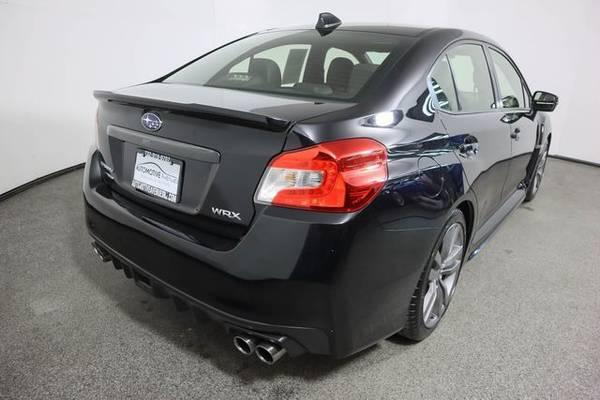Front_Right_Door: (505, 111, 543, 217)
Front_Right_Window: (487, 45, 539, 113)
Rear_Bumper: (75, 152, 435, 358)
Rear_Fender: (285, 88, 467, 229)
Rear_Right_Door: (442, 111, 515, 261)
Rear_Right_Window: (426, 40, 501, 113)
Rear_Windshield: (154, 29, 414, 103)
Right_Taillight: (256, 138, 392, 214)
Roof: (280, 21, 494, 109)
Tailgate: (93, 82, 348, 238)
Wheel: (408, 214, 466, 338)
